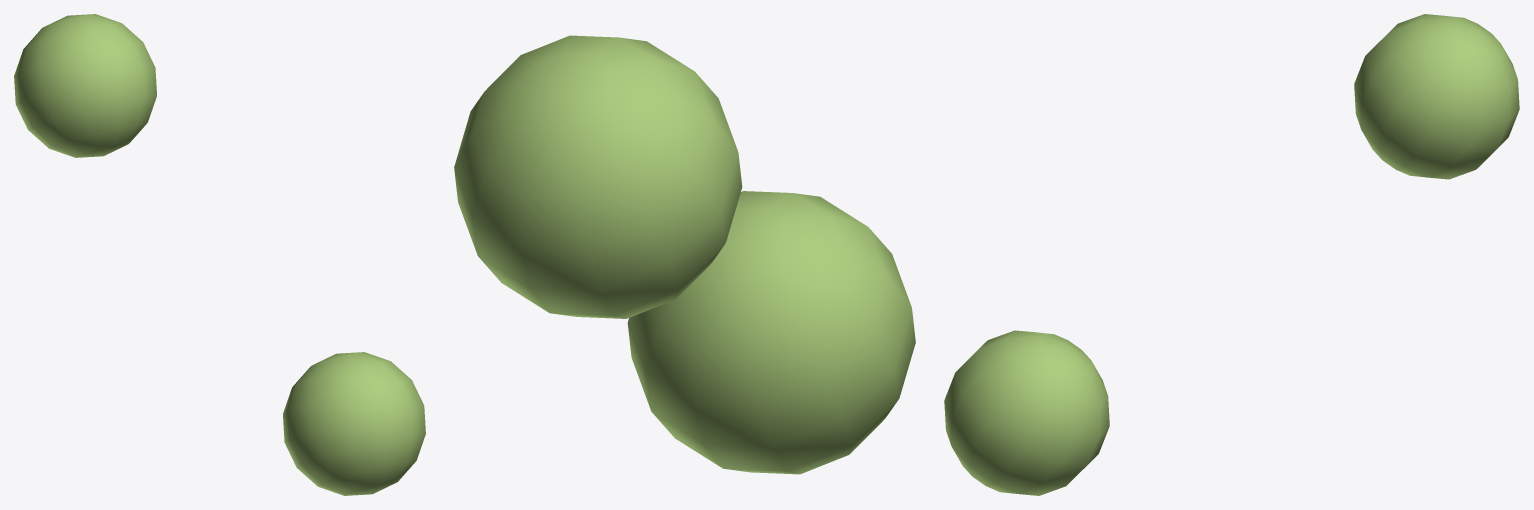
Rendered from occipital-nodes-l.glb.
3 views of the same model, side by side, from view 1: azimuth 30°, elevation 25°; view 2: azimuth 150°, elevation 25°; view 3: azimuth 270°, elevation 25° (orthographic). The views are drawn at different scales.
Visible parts, largest first — view 1: Occipital nodes.l; view 2: Occipital nodes.l; view 3: Occipital nodes.l.
Part boxes in pixels (box(x1,y1,x2,y2)): Occipital nodes.l: box(14, 14, 425, 495); Occipital nodes.l: box(454, 35, 915, 474); Occipital nodes.l: box(944, 14, 1519, 495).
Size of the model in its own units: 0.00448 by 0.00712 by 0.00893.
